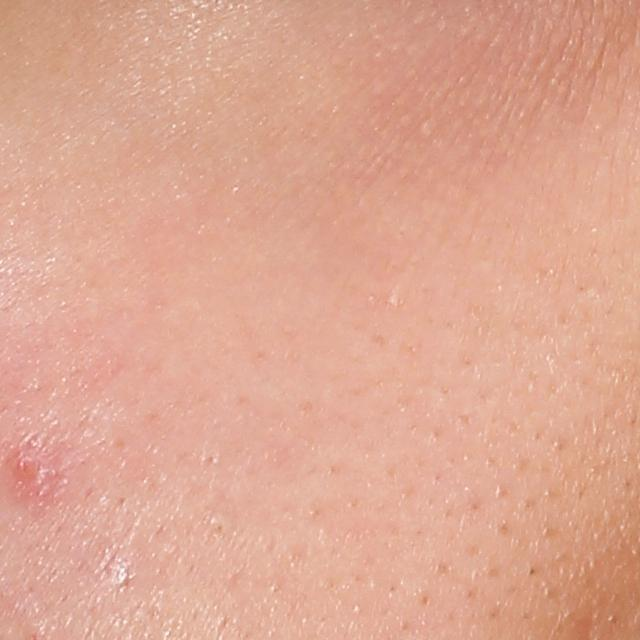papule: (0, 444, 57, 503)
